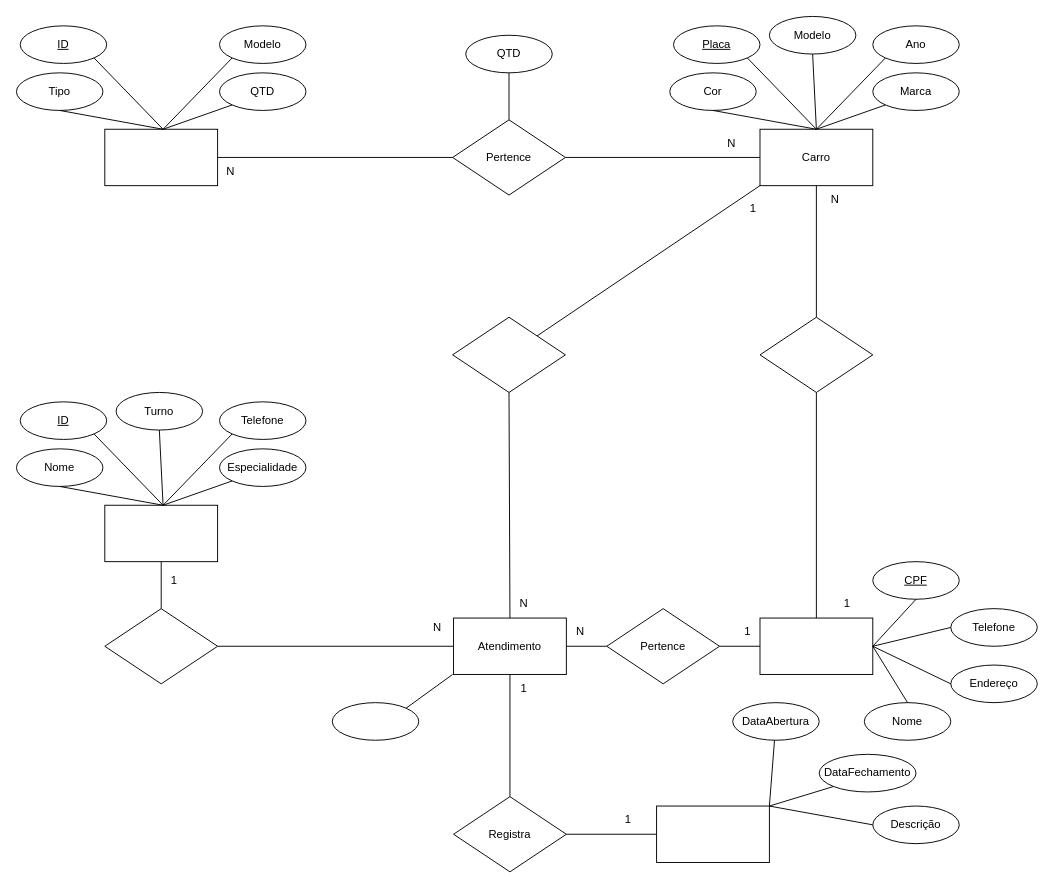
Image size: 1054x888. Some labels were removed from this diagram. Here are the shapes that lost their labels. From the top down, the box of each, then its label:
(104, 128, 218, 186): Peça
(452, 316, 565, 392): Atendido
(759, 316, 873, 392): Possui
(104, 504, 218, 562): Mecanico
(104, 608, 218, 684): Atende
(759, 617, 873, 674): Cliente
(331, 702, 419, 740): Status
(656, 805, 769, 862): Historico
